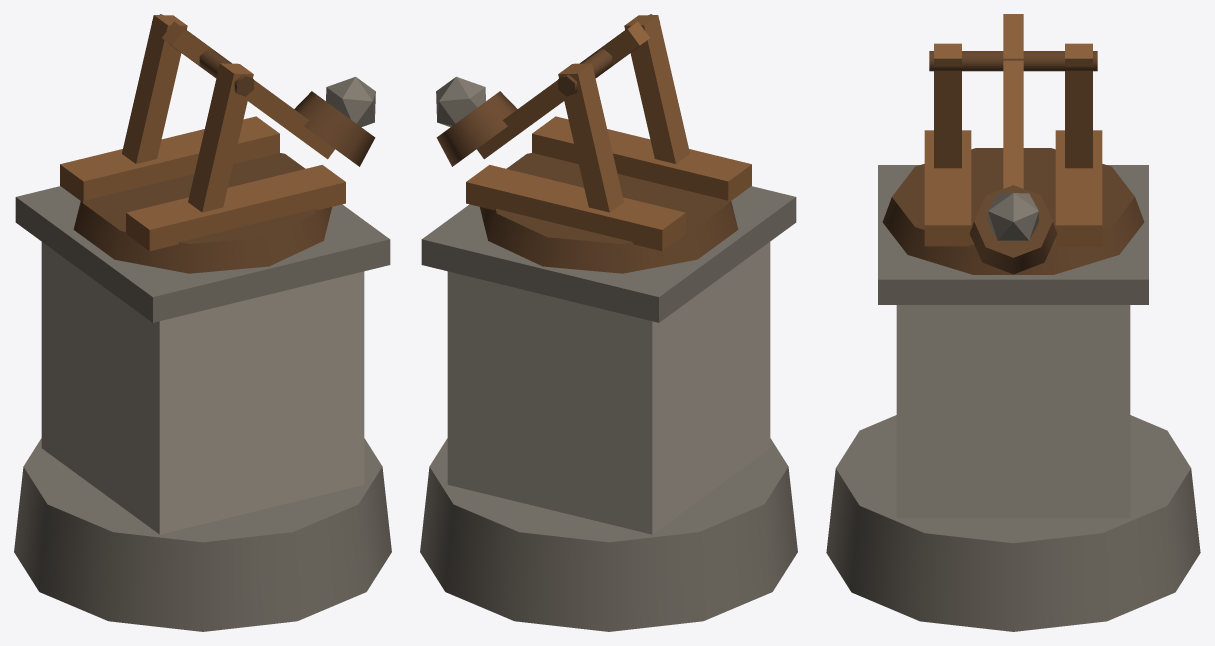
Rendered from tower_catapult.glb.
3 views of the same model, side by side, from view 1: azimuth 30°, elevation 25°; view 2: azimuth 150°, elevation 25°; view 3: azimuth 270°, elevation 25° (orthographic).
Parts seen in each view (by area): view 1: stone_block, tower_base, block_cap, turntable, frame_strut (×2), frame_beam_r, frame_beam_l, arm_beam, arm_bucket, boulder, axle; view 2: stone_block, tower_base, block_cap, turntable, frame_strut (×2), frame_beam_l, frame_beam_r, arm_beam, arm_bucket, boulder, axle; view 3: stone_block, tower_base, block_cap, turntable, frame_strut (×2), frame_beam_l, frame_beam_r, arm_bucket, arm_beam, axle, boulder.
Part boxes in pixels (x1=…): stone_block: x1=41, y1=242, x2=364, y2=534; tower_base: x1=14, y1=438, x2=391, y2=631; block_cap: x1=15, y1=186, x2=390, y2=322; turntable: x1=73, y1=153, x2=331, y2=273; frame_strut (×2): x1=122, y1=15, x2=253, y2=212; frame_beam_r: x1=126, y1=165, x2=345, y2=251; frame_beam_l: x1=60, y1=116, x2=279, y2=202; arm_beam: x1=162, y1=21, x2=334, y2=159; arm_bucket: x1=294, y1=91, x2=375, y2=166; boulder: x1=326, y1=76, x2=375, y2=126; axle: x1=152, y1=14, x2=253, y2=96; stone_block: x1=447, y1=242, x2=770, y2=534; tower_base: x1=420, y1=438, x2=797, y2=631; block_cap: x1=421, y1=186, x2=796, y2=322; turntable: x1=480, y1=153, x2=738, y2=273; frame_strut (×2): x1=558, y1=15, x2=689, y2=212; frame_beam_l: x1=466, y1=165, x2=685, y2=251; frame_beam_r: x1=532, y1=116, x2=751, y2=202; arm_beam: x1=477, y1=21, x2=649, y2=159; arm_bucket: x1=436, y1=91, x2=517, y2=166; boulder: x1=436, y1=76, x2=485, y2=126; axle: x1=558, y1=14, x2=659, y2=96; stone_block: x1=896, y1=305, x2=1130, y2=517; tower_base: x1=826, y1=415, x2=1200, y2=631; block_cap: x1=878, y1=165, x2=1148, y2=304; turntable: x1=882, y1=148, x2=1144, y2=274; frame_strut (×2): x1=934, y1=43, x2=1092, y2=168; frame_beam_l: x1=1055, y1=130, x2=1102, y2=246; frame_beam_r: x1=924, y1=130, x2=971, y2=246; arm_bucket: x1=969, y1=185, x2=1057, y2=274; arm_beam: x1=1003, y1=14, x2=1023, y2=188; axle: x1=929, y1=51, x2=1097, y2=71; boulder: x1=988, y1=193, x2=1038, y2=240.
Bounding box in the file's own units: 0.4113 × 0.6221 × 0.4.
